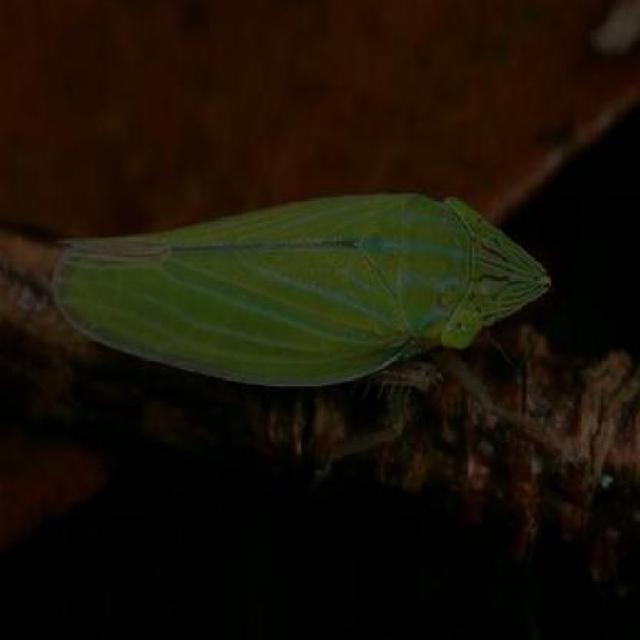green-leafhopper: (52, 184, 540, 390)
